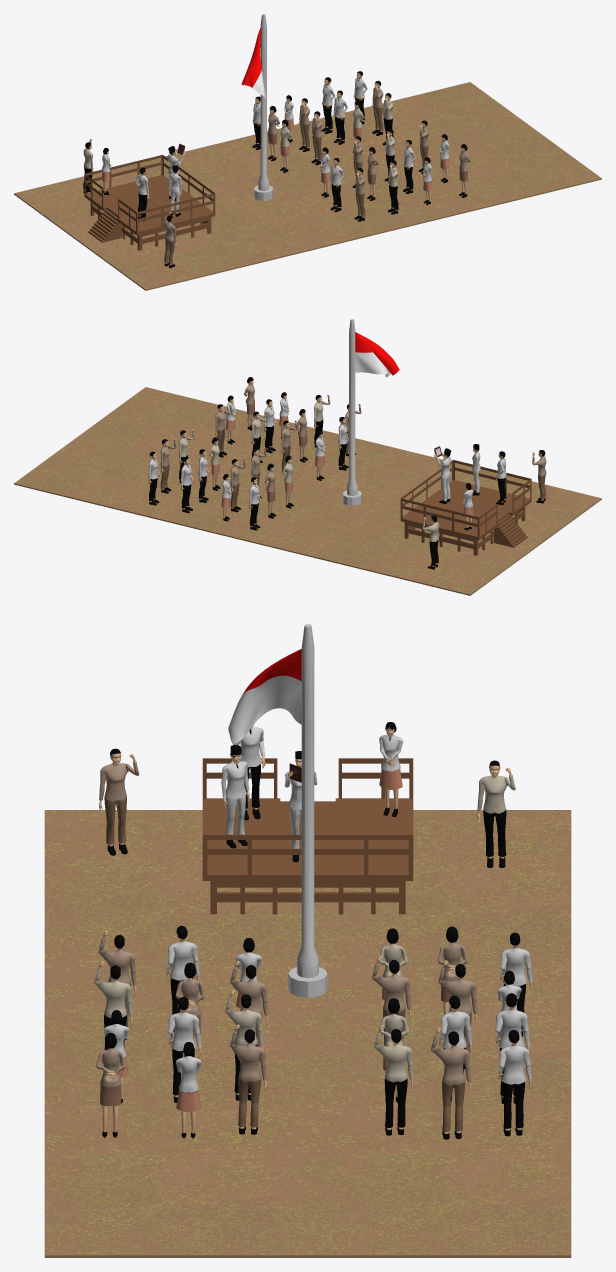
Rendered from Diorama Soekarno.fbx.
The picture shows the model from 3 angles, top to bottom: view 1: azimuth 30°, elevation 25°; view 2: azimuth 150°, elevation 25°; view 3: azimuth 270°, elevation 25°; orthographic projection. The views are drawn at different scales.
Parts seen in each view (by area): view 1: Plane, Plane.001, Plane.002, Bendera, Plane.004, Bendera.001, Cowo Normis 2.006, Cowo Normis 2.002, Cowo Normis 2.003, Cowo Normis 11.001, Cowo Normis 11.003, Cowo Normis 11.006 (+11 smaller); view 2: Plane, Plane.001, Plane.002, Bendera, Bendera.001, Plane.004, Cowo Normis 2.003, Soekarno Pose 1, Cowo Normis 1.001, Cowo Normis 11.003, Cowo Normis 2.005, Cowo Normis 11.004 (+16 smaller); view 3: Plane, Plane.001, Bendera, Plane.002, Bendera.001, Cowo Normis 11.003, Cowo Normis 11.001, Cowo Normis 1.001, Cowo Normis 1.004, Cowo Normis 2.004, Cowo Normis 11.004, Moh Hatta Pose 1 (+19 smaller).
Boxes of the visible parts, bbox=[...] form: Plane: bbox=[14, 82, 601, 290]; Plane.001: bbox=[84, 175, 215, 250]; Plane.002: bbox=[84, 155, 215, 232]; Bendera: bbox=[254, 14, 273, 200]; Plane.004: bbox=[88, 207, 121, 242]; Bendera.001: bbox=[241, 27, 266, 99]; Cowo Normis 2.006: bbox=[333, 90, 347, 144]; Cowo Normis 2.002: bbox=[329, 158, 344, 212]; Cowo Normis 2.003: bbox=[321, 77, 335, 133]; Cowo Normis 11.001: bbox=[164, 212, 177, 268]; Cowo Normis 11.003: bbox=[371, 80, 383, 135]; Cowo Normis 11.006: bbox=[298, 98, 309, 151]; Plane: bbox=[14, 387, 601, 595]; Plane.001: bbox=[400, 480, 531, 555]; Plane.002: bbox=[400, 460, 531, 537]; Bendera: bbox=[342, 319, 361, 505]; Bendera.001: bbox=[355, 332, 399, 377]; Plane.004: bbox=[494, 512, 527, 547]; Cowo Normis 2.003: bbox=[180, 457, 193, 513]; Soekarno Pose 1: bbox=[434, 448, 451, 504]; Cowo Normis 1.001: bbox=[422, 515, 438, 569]; Cowo Normis 11.003: bbox=[160, 438, 176, 493]; Cowo Normis 2.005: bbox=[263, 399, 276, 453]; Cowo Normis 11.004: bbox=[215, 404, 232, 457]; Plane: bbox=[44, 810, 571, 1257]; Plane.001: bbox=[202, 798, 413, 914]; Bendera: bbox=[288, 624, 327, 997]; Plane.002: bbox=[202, 758, 413, 874]; Bendera.001: bbox=[228, 649, 301, 744]; Cowo Normis 11.003: bbox=[431, 1027, 471, 1139]; Cowo Normis 11.001: bbox=[99, 748, 139, 855]; Cowo Normis 1.001: bbox=[477, 760, 515, 867]; Cowo Normis 1.004: bbox=[374, 1025, 413, 1135]; Cowo Normis 2.004: bbox=[498, 1030, 531, 1136]; Cowo Normis 11.004: bbox=[230, 1024, 267, 1134]; Moh Hatta Pose 1: bbox=[221, 745, 249, 848].
Size of the model in its own units: 1600 by 614 by 800.
